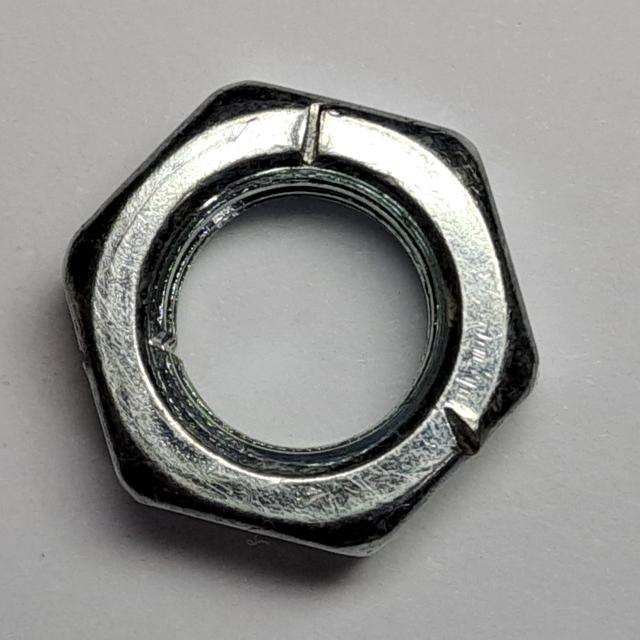Scratches: (42, 72, 556, 579)
